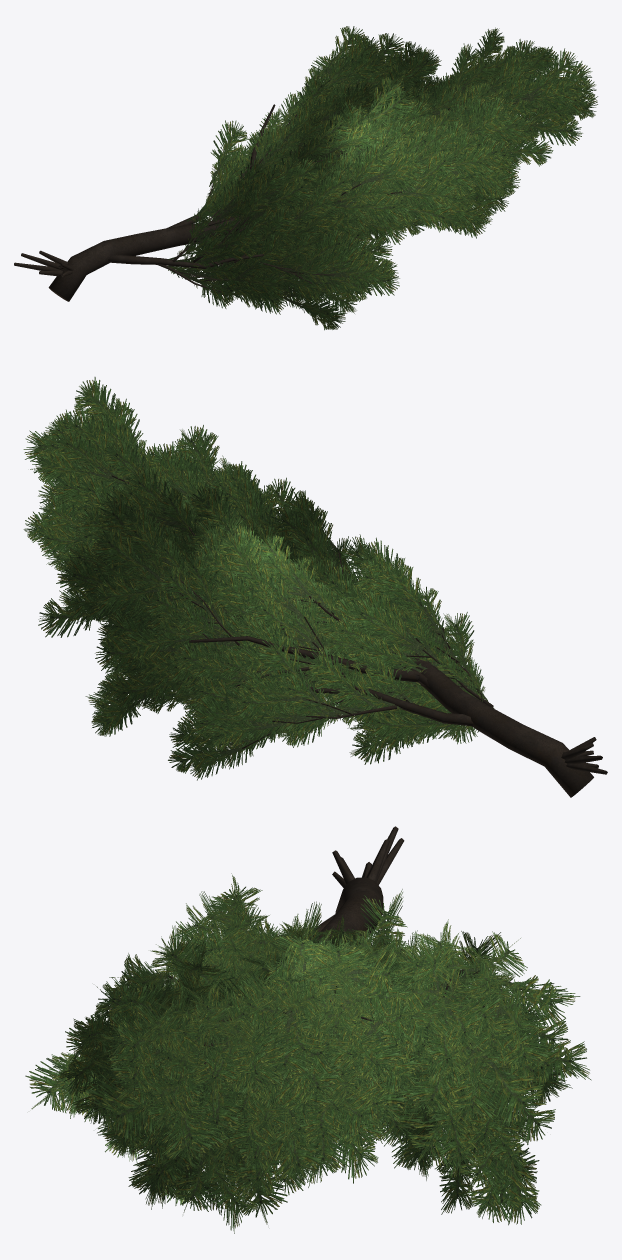
Rendered from krummholz_pine_v01.fbx.
3 renders of one model, top to bottom at view 1: azimuth 30°, elevation 25°; view 2: azimuth 150°, elevation 25°; view 3: azimuth 270°, elevation 25°, orthographic. The views are drawn at different scales.
Parts seen in each view (by area): view 1: krummholz_pine_v01; view 2: krummholz_pine_v01; view 3: krummholz_pine_v01.
Part boxes in pixels (x1=…): krummholz_pine_v01: x1=14, y1=26, x2=597, y2=330; krummholz_pine_v01: x1=23, y1=377, x2=607, y2=797; krummholz_pine_v01: x1=25, y1=826, x2=591, y2=1233.
Bounding box in the file's own units: 435 × 240 × 193.
2 materials, 2 textured.
